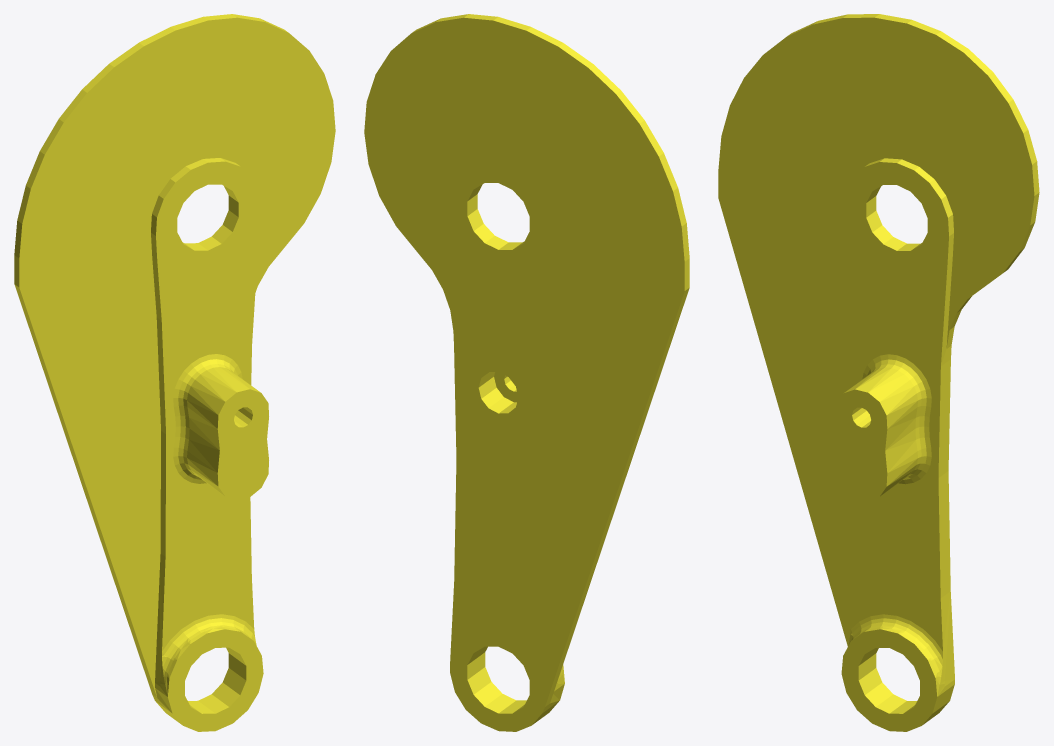
File: lpf2.dae
The picture shows the model from 3 angles, left to right: view 1: azimuth 30°, elevation 25°; view 2: azimuth 150°, elevation 25°; view 3: azimuth 330°, elevation 25°; orthographic projection.
Visible parts, largest first — view 1: lpf2; view 2: lpf2; view 3: lpf2.
Part boxes in pixels (bbox=[...]): lpf2: bbox=[14, 14, 335, 731]; lpf2: bbox=[364, 14, 689, 731]; lpf2: bbox=[718, 14, 1039, 731].
Size of the model in its own units: 0.0362 by 0.009 by 0.0765.
1 material, 1 textured.
